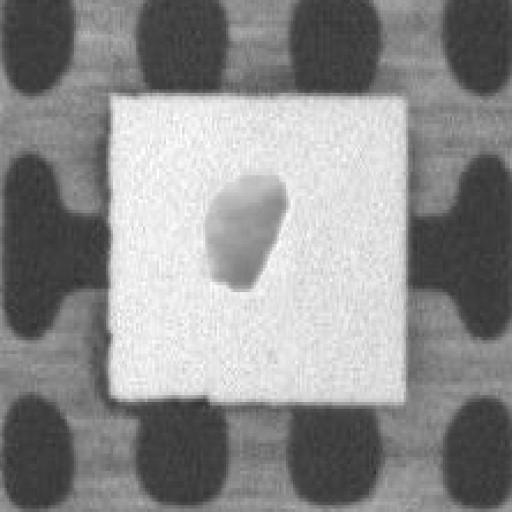DIE_INK: (275, 90, 447, 214)
